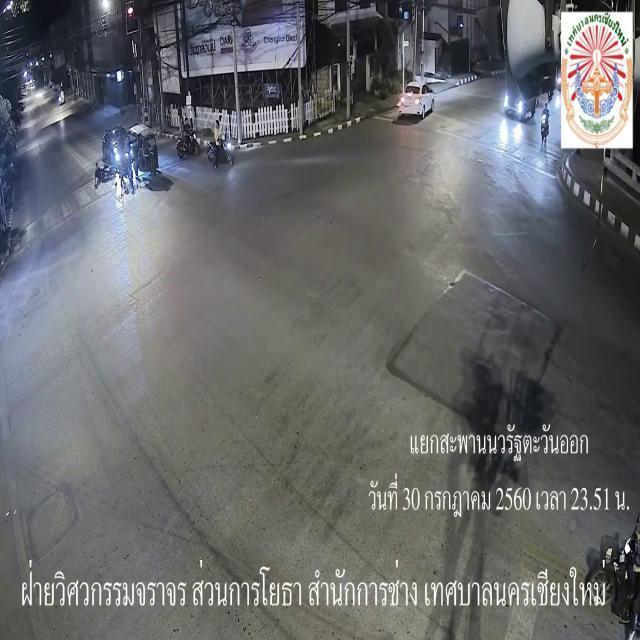accident: (96, 165, 118, 181)
non-accident: (104, 129, 160, 195)
